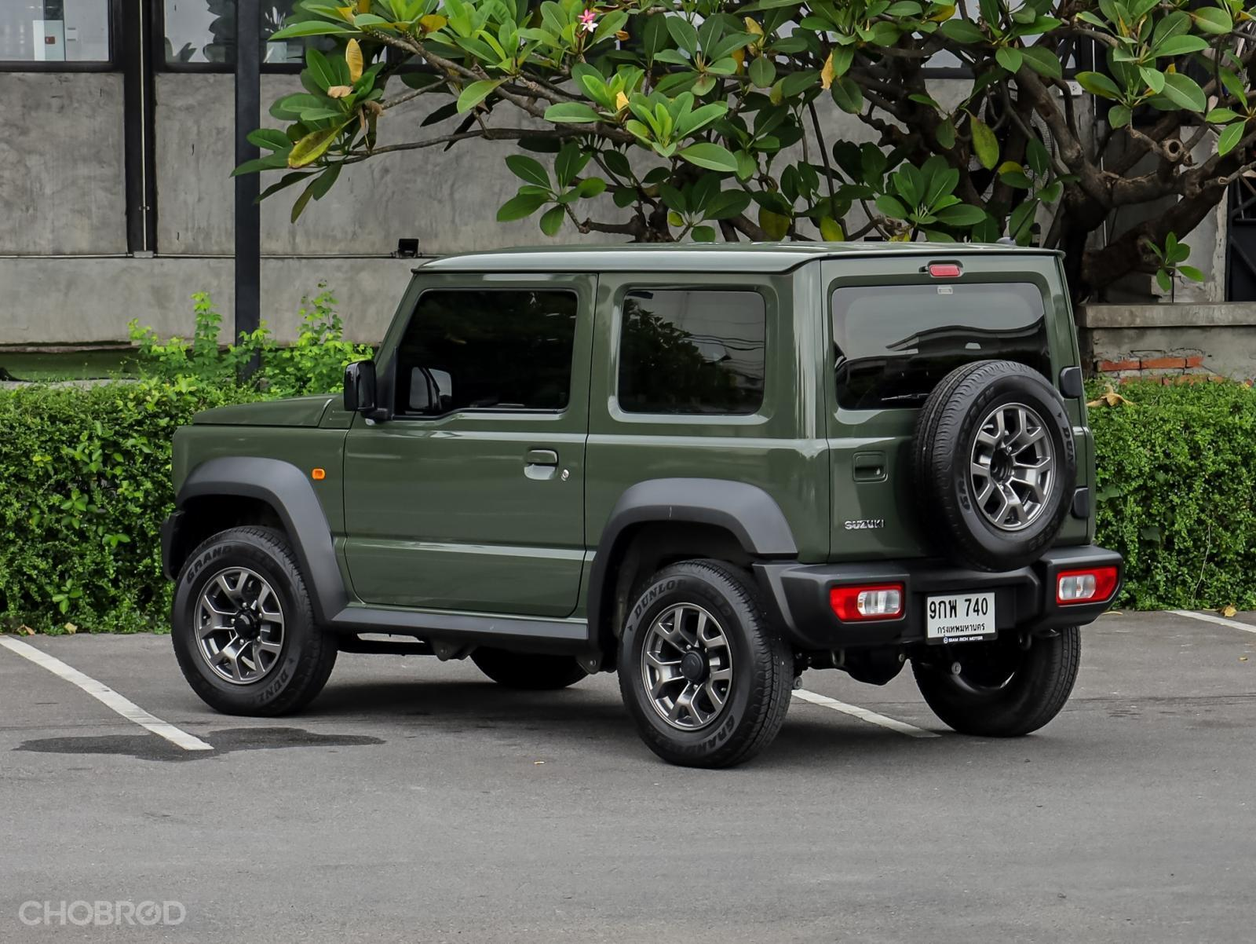license-plate: (923, 592, 998, 649)
